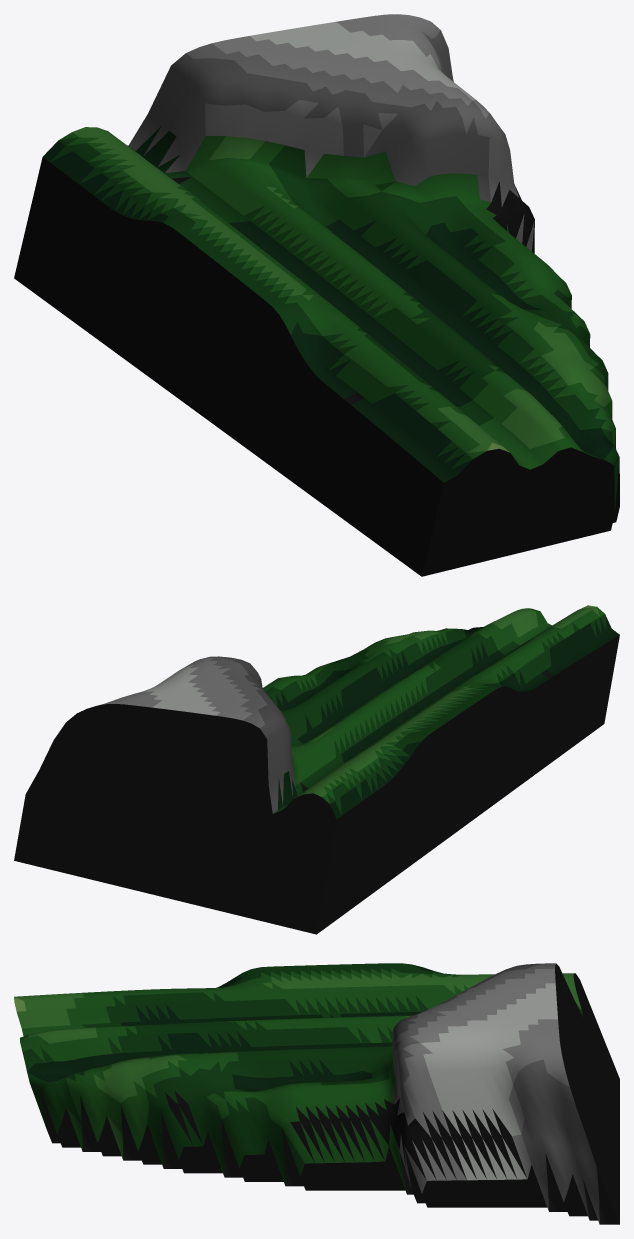
The model's file is green_shell_235.glb.
The picture shows the model from 3 angles, top to bottom: view 1: azimuth 30°, elevation 25°; view 2: azimuth 150°, elevation 25°; view 3: azimuth 270°, elevation 25°; orthographic projection. The views are drawn at different scales.
Visible parts, largest first — view 1: green_shell_235; view 2: green_shell_235; view 3: green_shell_235.
Boxes of the visible parts, <box> form: green_shell_235: <box>14,14,619,576</box>; green_shell_235: <box>14,605,619,934</box>; green_shell_235: <box>14,963,619,1224</box>.
Bounding box in the file's own units: 17 × 8.8 × 29.89.
